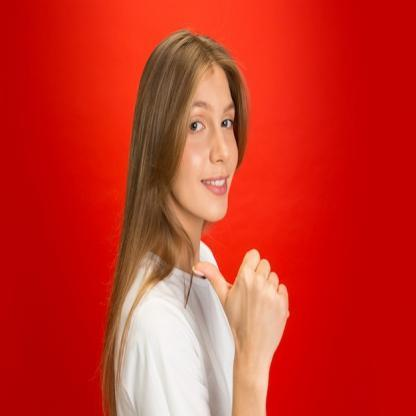thumb_up: (192, 248, 292, 367)
